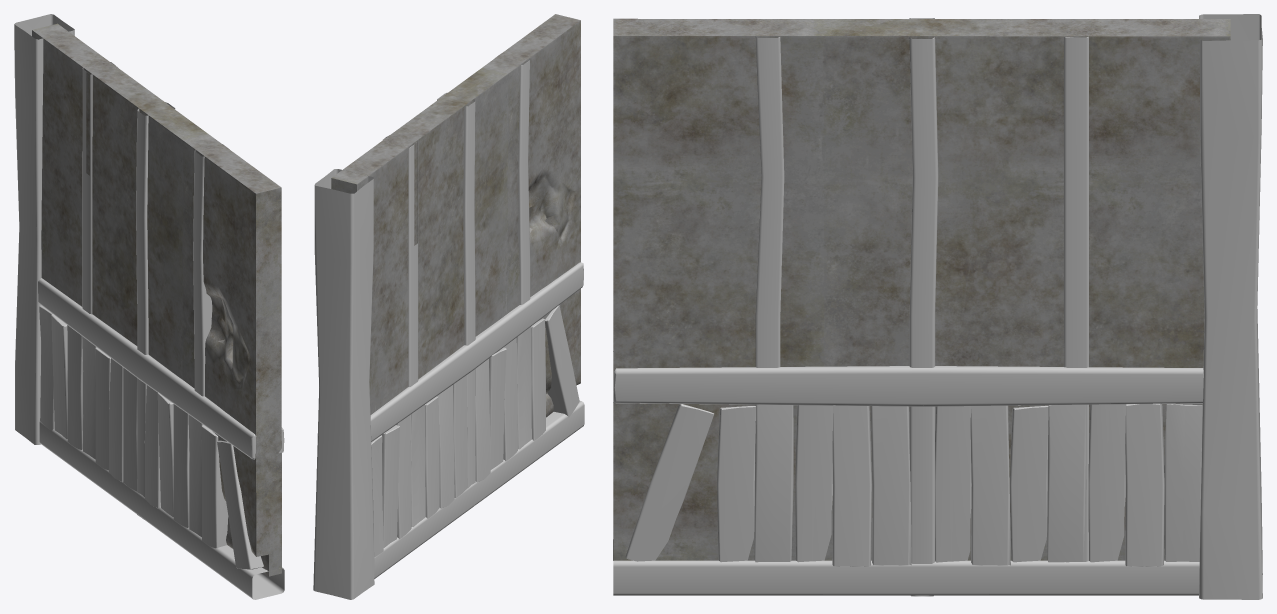
File: SM_Wall16.fbx
3 views of the same model, side by side, from view 1: azimuth 30°, elevation 25°; view 2: azimuth 150°, elevation 25°; view 3: azimuth 270°, elevation 25° (orthographic). The views are drawn at different scales.
Visible parts, largest first — view 1: SM_Wall16_LOD0; view 2: SM_Wall16_LOD0; view 3: SM_Wall16_LOD0.
Boxes of the visible parts, x1,y1,x2,y2 form: SM_Wall16_LOD0: (14, 14, 284, 599); SM_Wall16_LOD0: (313, 14, 584, 599); SM_Wall16_LOD0: (613, 14, 1262, 599).
Bounding box in the file's own units: 31.13 × 316 × 300.
